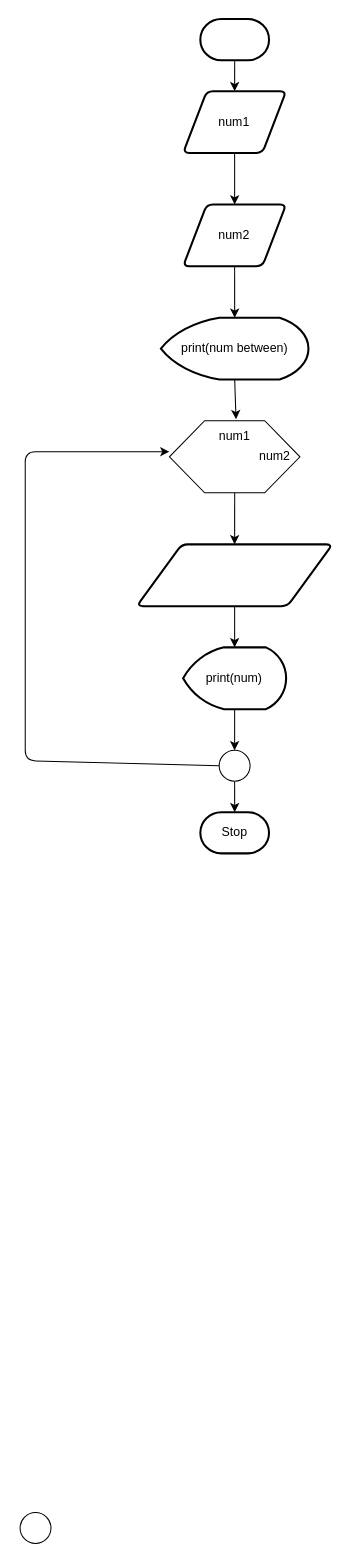
Image size: 351x1561. Some labels were removed from this diagram. The shapes that lost their labels are listed below. From the top down, each one's centre as x and y in pixels, then its label:
At (234,39): "Start".
At (234,575): "if num % 3 == 0 :".
